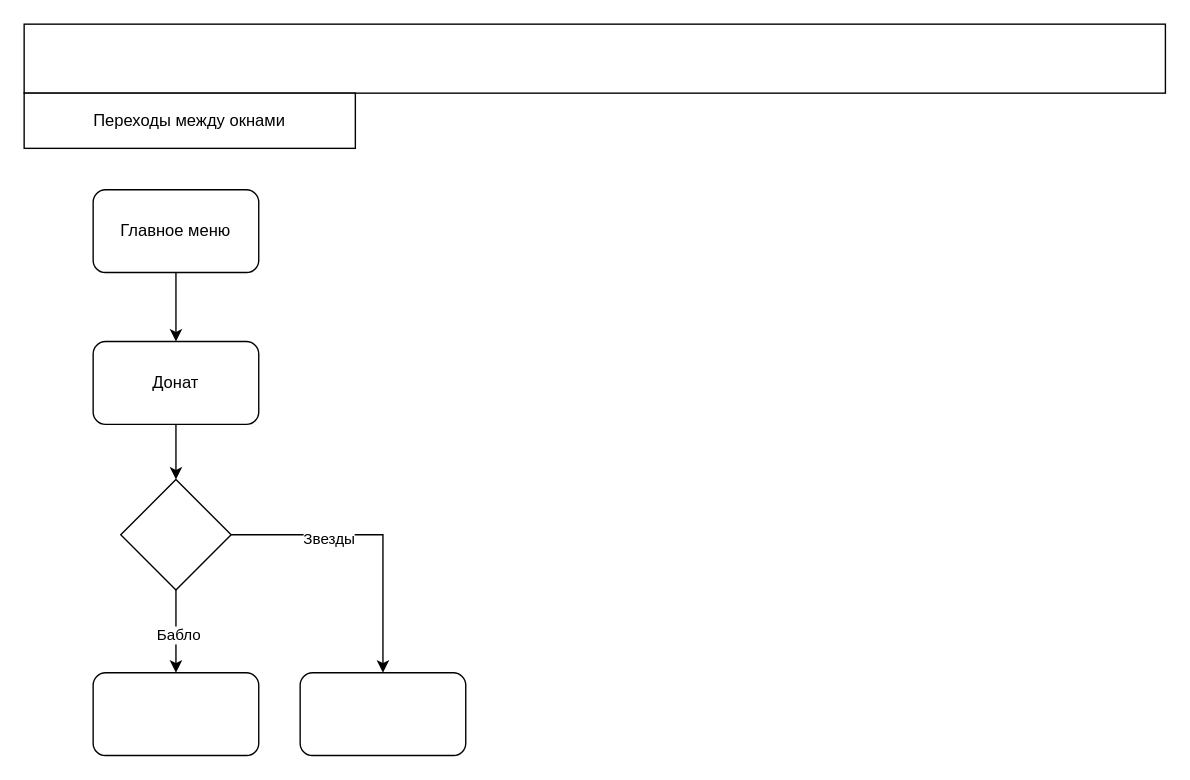
Image size: 1190x780. Some labels were removed from this diagram. Here are the shapes that lost their labels. From the top down, the centre of each, then its label:
At pixel 594 58: "Диаграмма доната".
At pixel 175 534: "Звезды Бабло".
